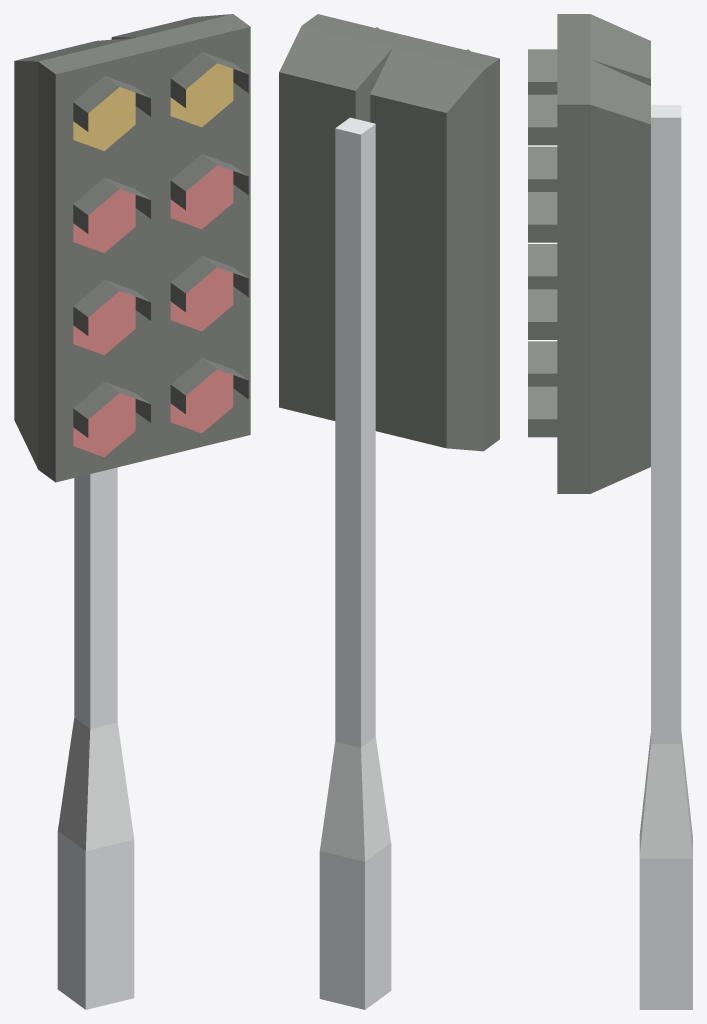
The model's file is lightRedDouble.glb.
3 views of the same model, side by side, from view 1: azimuth 30°, elevation 25°; view 2: azimuth 150°, elevation 25°; view 3: azimuth 270°, elevation 25° (orthographic). The views are drawn at different scales.
Visible parts, largest first — view 1: lightRedDouble(Clone); view 2: lightRedDouble(Clone); view 3: lightRedDouble(Clone).
Part boxes in pixels (left/top/right/bottom): lightRedDouble(Clone): left=14, top=14, right=250, bottom=1009; lightRedDouble(Clone): left=279, top=14, right=499, bottom=1009; lightRedDouble(Clone): left=528, top=14, right=692, bottom=1009.
Size of the model in its own units: 0.1416 by 0.6834 by 0.1087.
2 materials, 2 textured.
